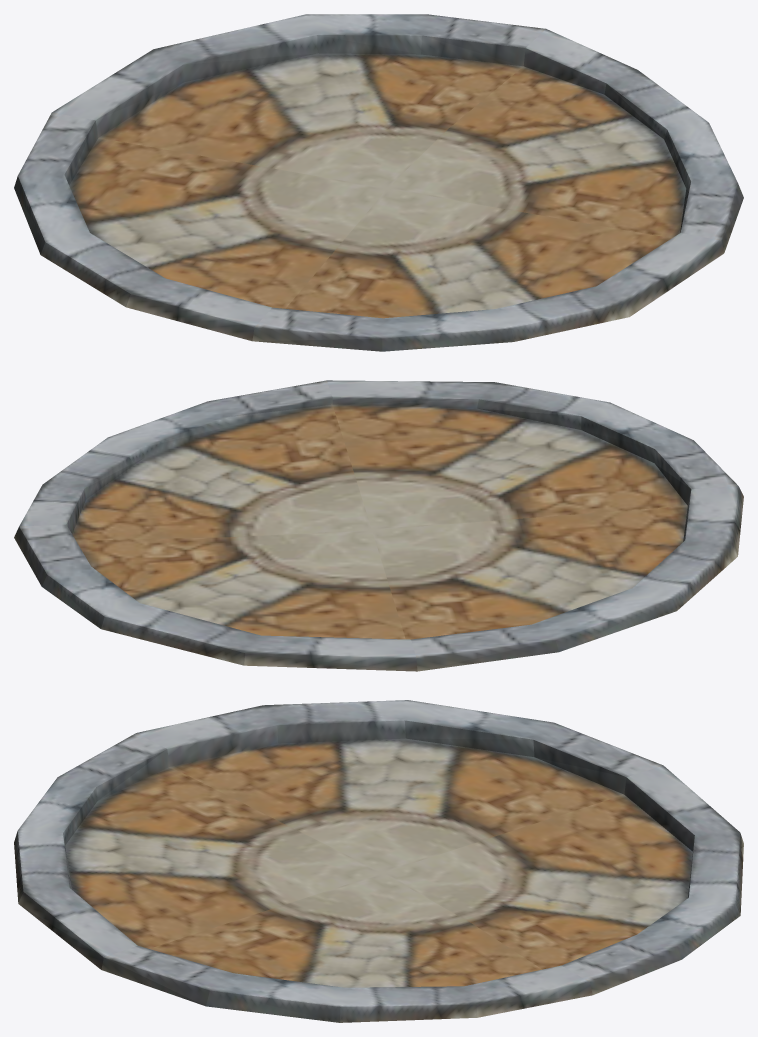
The model's file is yuanquan.FBX.
3 renders of one model, top to bottom at view 1: azimuth 30°, elevation 25°; view 2: azimuth 150°, elevation 25°; view 3: azimuth 270°, elevation 25°, orthographic. The views are drawn at different scales.
Visible parts, largest first — view 1: Object004; view 2: Object004; view 3: Object004.
Boxes of the visible parts, bbox=[...] form: Object004: bbox=[14, 14, 743, 351]; Object004: bbox=[14, 380, 743, 671]; Object004: bbox=[14, 700, 743, 1022].
Size of the model in its own units: 118 by 4.35 by 120.
